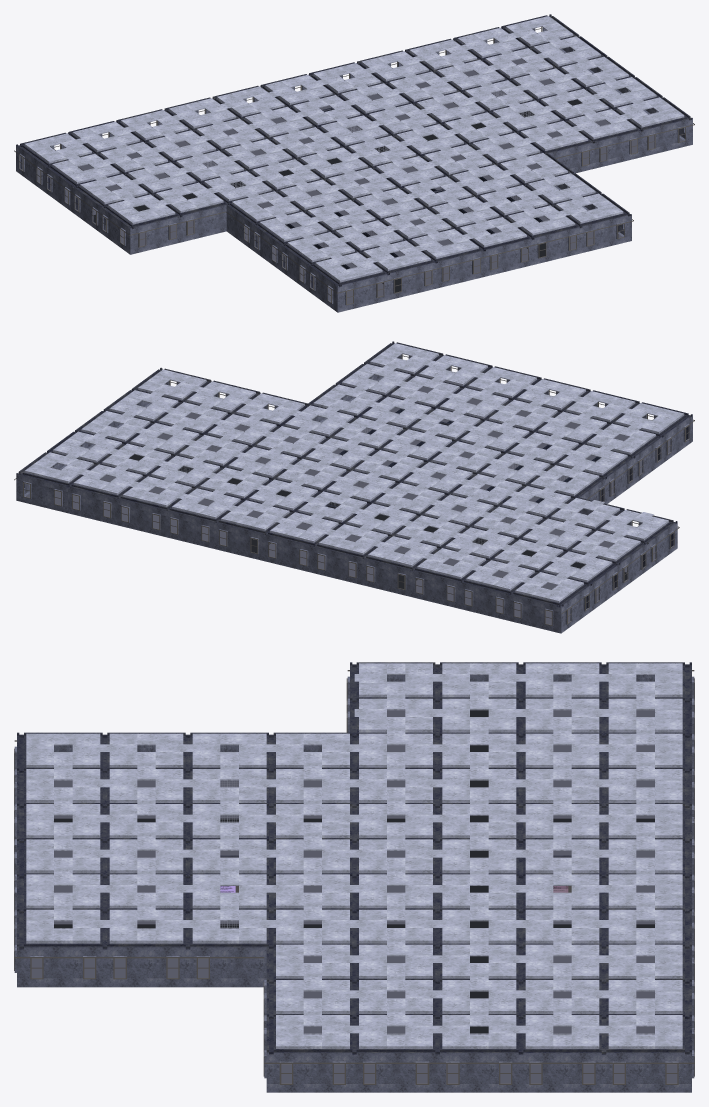
Rendered from showroom.glb.
3 views of the same model, one above another, from view 1: azimuth 30°, elevation 25°; view 2: azimuth 150°, elevation 25°; view 3: azimuth 270°, elevation 25° (orthographic). The views are drawn at different scales.
Visible parts, largest first — view 1: Material2 (×6); view 2: Material2 (×6); view 3: Material2 (×6).
Part boxes in pixels (left/top/right/bottom): Material2 (×6): left=14, top=14, right=694, bottom=312; Material2 (×6): left=14, top=341, right=694, bottom=633; Material2 (×6): left=14, top=662, right=694, bottom=1092.
Bounding box in the file's own units: 2416 × 125 × 1768.
Materials: 11 (7 with a texture image).
